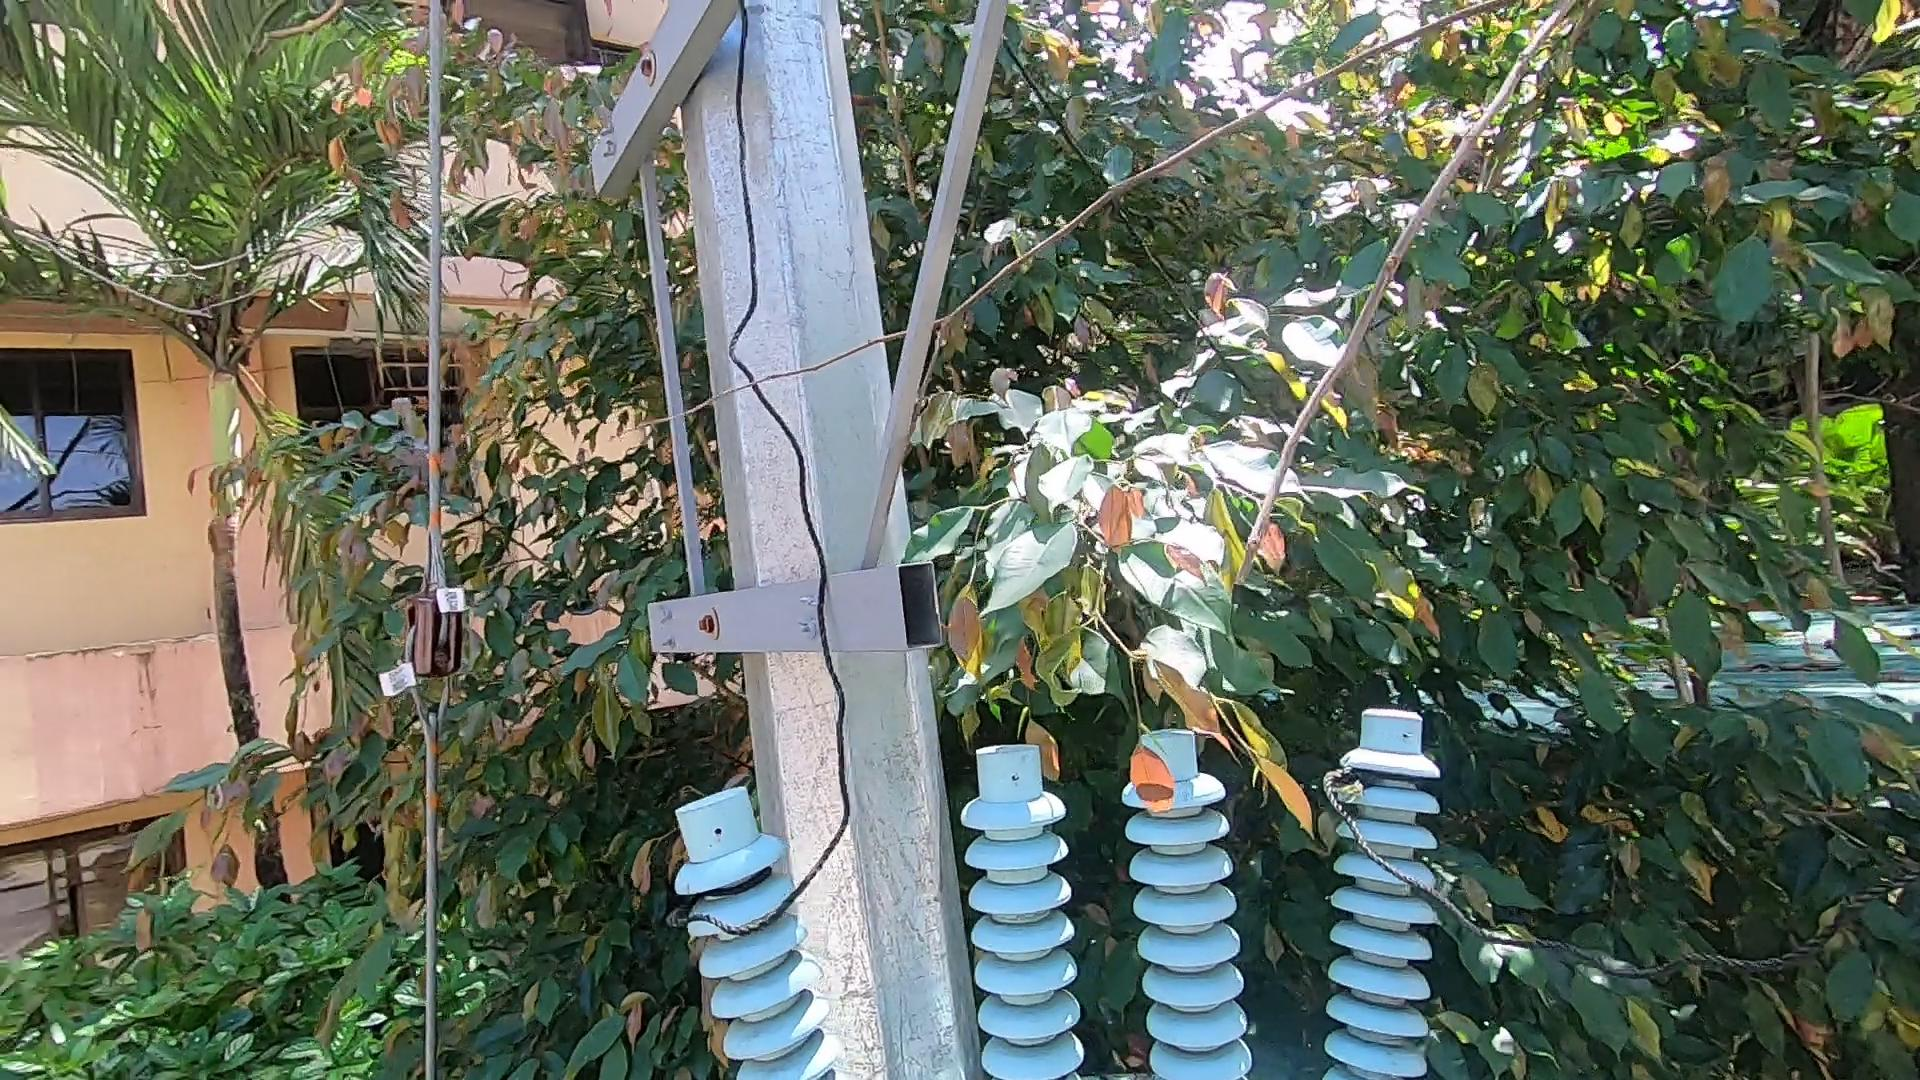branch with leaves: (1129, 682, 1329, 853)
tree branch: (551, 80, 1545, 609)
